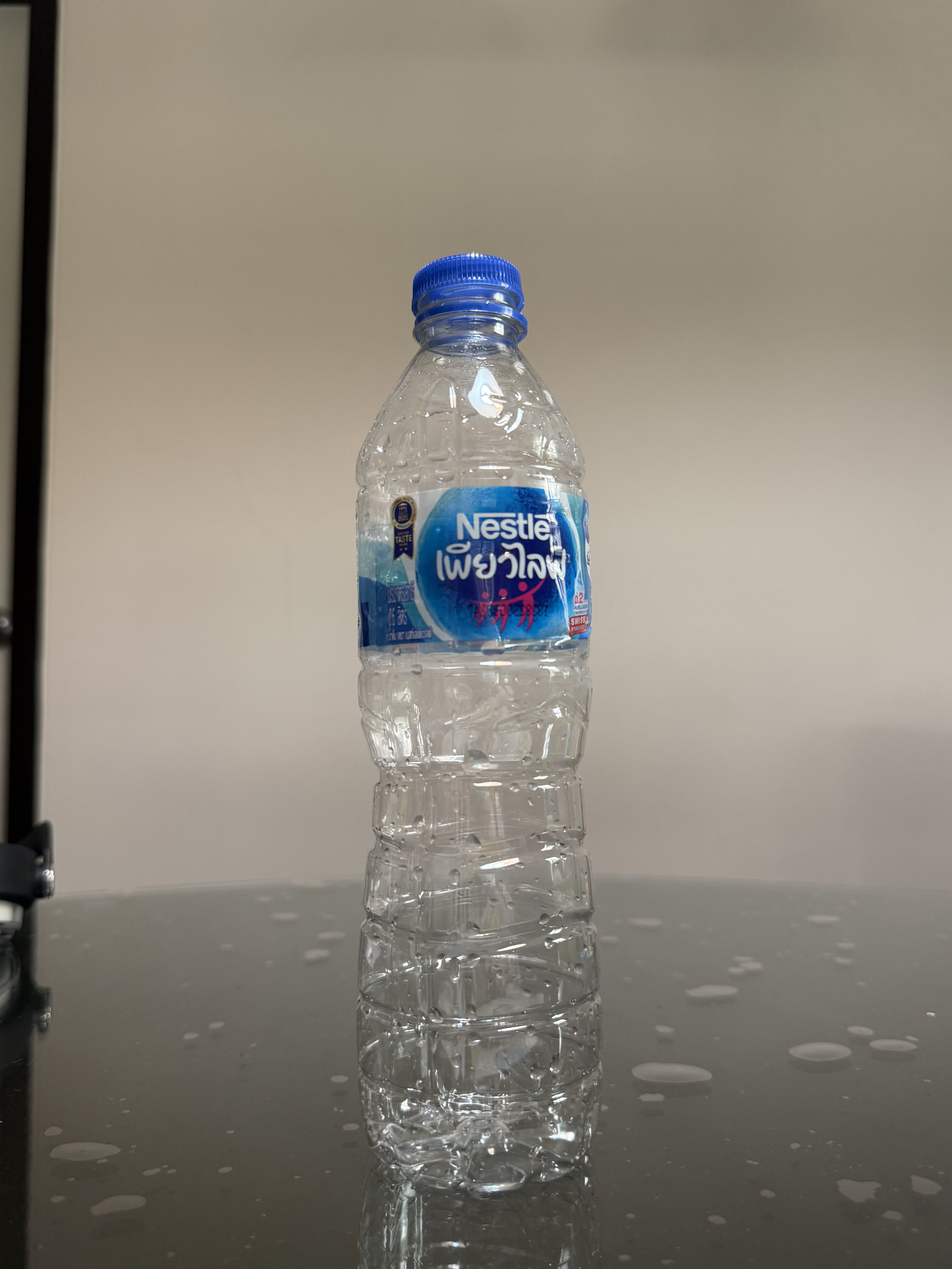half_cap: (408, 248, 529, 344)
